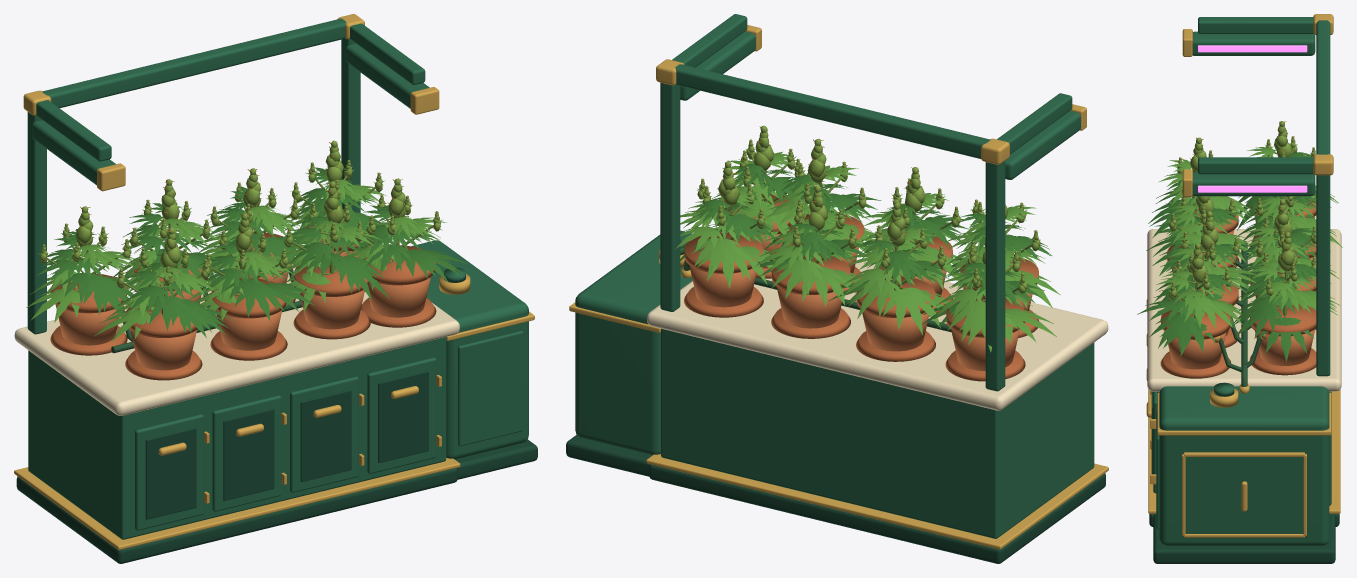
The model's file is grow_bench_tier2.glb.
3 views of the same model, side by side, from view 1: azimuth 30°, elevation 25°; view 2: azimuth 150°, elevation 25°; view 3: azimuth 270°, elevation 25° (orthographic). The views are drawn at different scales.
Parts seen in each view (by area): view 1: Body, Top, Tank, TankFront, Plinth, Beam, PlinthBrass, DrawerInset2, DrawerInset0, DrawerInset1, DrawerInset3, Post-1.04 (+33 smaller); view 2: Body, Top, Tank, Plinth, Beam, PlinthBrass, Post-1.04, Post0.60, LightBar-1.04, P3Pot, P2Pot, P1Pot (+20 smaller); view 3: Tank, TankDoor, Top, TankPlinth, Post0.60, LightBar0.60, Arm0.60, LightBar-1.04, Beam, Arm-1.04, PlinthBrass, P7Pot (+39 smaller).
Part boxes in pixels (bbox=[...]): Body: bbox=[28, 337, 446, 539]; Top: bbox=[14, 264, 459, 415]; Tank: bbox=[411, 240, 528, 459]; TankFront: bbox=[458, 331, 523, 446]; Plinth: bbox=[16, 468, 457, 563]; Beam: bbox=[42, 18, 346, 108]; PlinthBrass: bbox=[14, 458, 460, 550]; DrawerInset2: bbox=[300, 390, 351, 481]; DrawerInset0: bbox=[145, 427, 196, 519]; DrawerInset1: bbox=[223, 408, 274, 500]; DrawerInset3: bbox=[378, 371, 428, 462]; Post-1.04: bbox=[27, 112, 46, 334]; Body: bbox=[661, 328, 1094, 538]; Top: bbox=[647, 260, 1108, 410]; Tank: bbox=[575, 230, 692, 455]; Plinth: bbox=[649, 464, 1105, 563]; Beam: bbox=[675, 64, 990, 158]; PlinthBrass: bbox=[646, 454, 1108, 549]; Post-1.04: bbox=[985, 161, 1005, 391]; Post0.60: bbox=[660, 82, 680, 311]; LightBar-1.04: bbox=[1005, 110, 1080, 179]; P3Pot: bbox=[689, 265, 756, 307]; P2Pot: bbox=[776, 287, 845, 328]; P1Pot: bbox=[862, 311, 928, 351]; Tank: bbox=[1159, 386, 1329, 546]; TankDoor: bbox=[1185, 457, 1303, 533]; Top: bbox=[1147, 229, 1341, 391]; TankPlinth: bbox=[1153, 514, 1335, 563]; Post0.60: bbox=[1316, 175, 1330, 376]; LightBar0.60: bbox=[1192, 172, 1315, 196]; Arm0.60: bbox=[1198, 157, 1313, 174]; LightBar-1.04: bbox=[1192, 31, 1315, 55]; Beam: bbox=[1316, 20, 1330, 154]; Arm-1.04: bbox=[1198, 17, 1313, 33]; PlinthBrass: bbox=[1148, 389, 1340, 513]; P7Pot: bbox=[1167, 332, 1226, 369].
Size of the model in its own units: 2.34 by 1.99 by 1.02.
